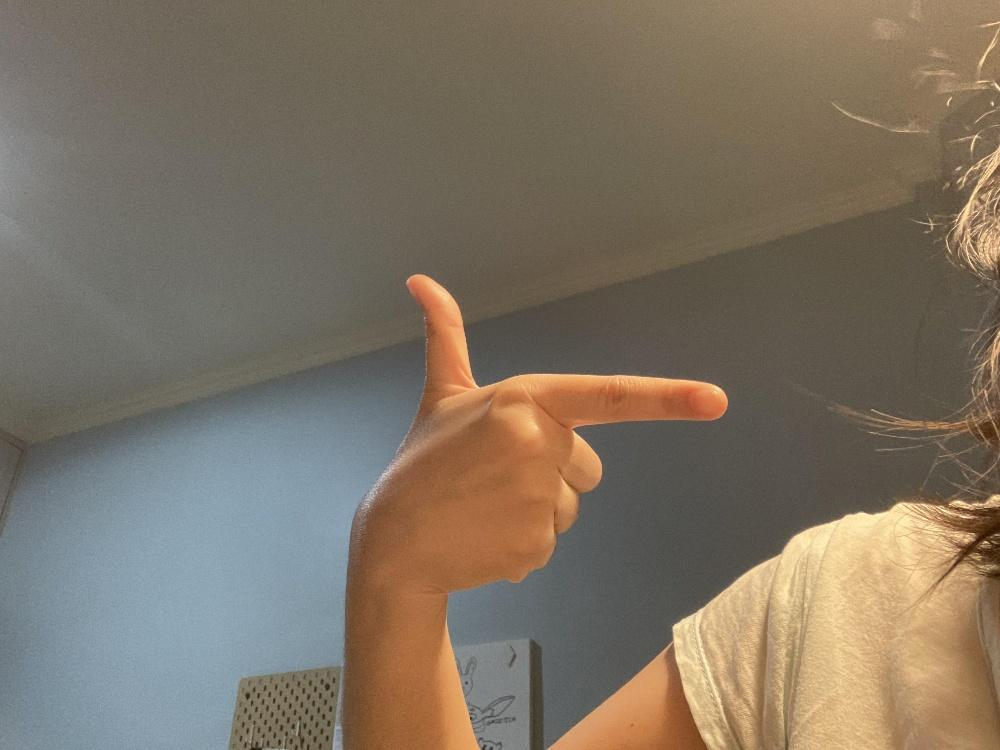g: (350, 272, 727, 593)
